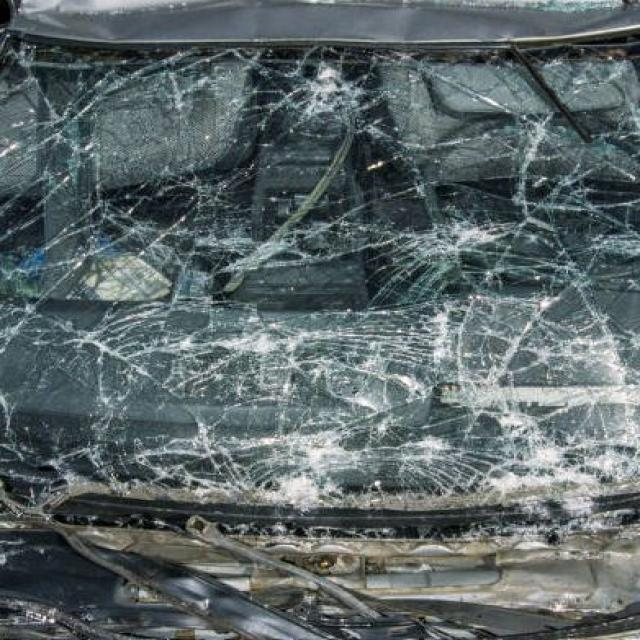electronic: (0, 60, 640, 548)
